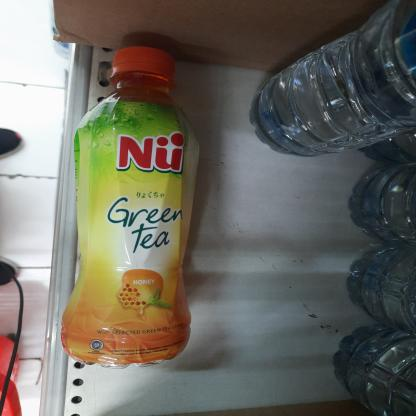bottle: (53, 42, 197, 369)
